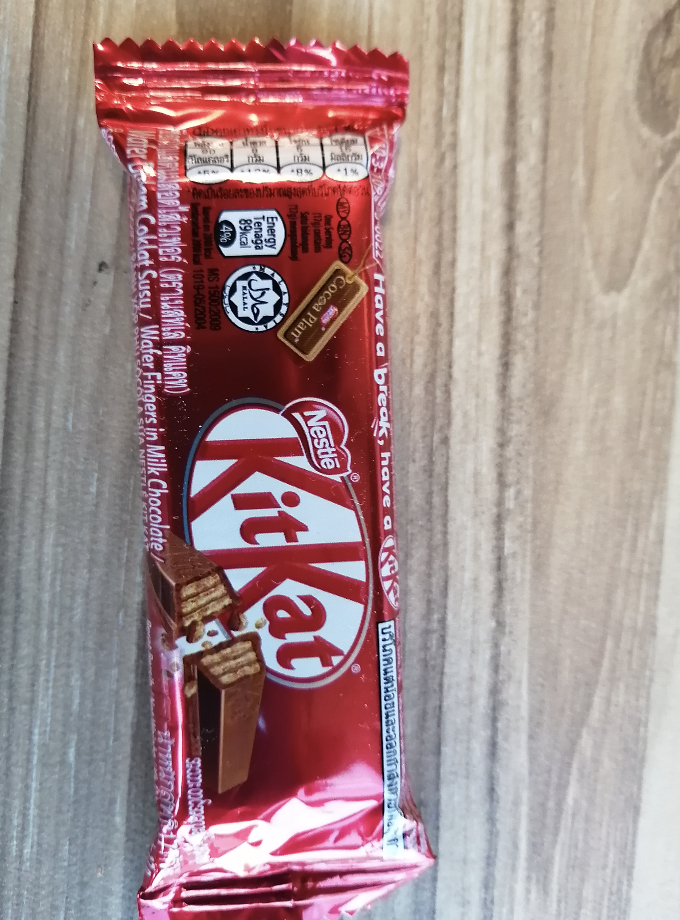Kitkat: (144, 76, 394, 868)
